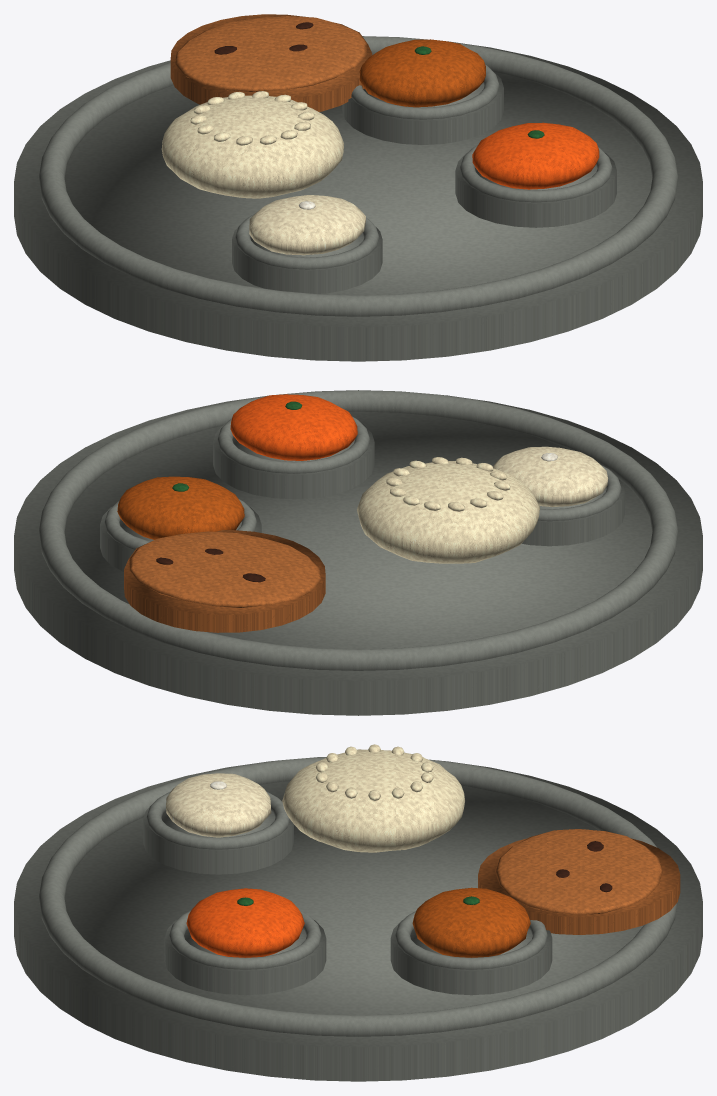
File: thali.glb
3 renders of one model, top to bottom at view 1: azimuth 30°, elevation 25°; view 2: azimuth 150°, elevation 25°; view 3: azimuth 270°, elevation 25°, orthographic.
Parts seen in each view (by area): view 1: steel, rice, bread, curry, pumpkin, cream; view 2: steel, bread, rice, pumpkin, curry, cream; view 3: steel, bread, rice, curry, pumpkin, cream.
Boxes of the visible parts, x1=… form: steel: x1=14, y1=36, x2=702, y2=361; rice: x1=161, y1=91, x2=343, y2=198; bread: x1=170, y1=14, x2=372, y2=111; curry: x1=359, y1=39, x2=485, y2=107; pumpkin: x1=472, y1=122, x2=599, y2=189; cream: x1=249, y1=195, x2=365, y2=255; steel: x1=14, y1=390, x2=702, y2=715; bread: x1=124, y1=530, x2=325, y2=632; rice: x1=357, y1=457, x2=539, y2=563; pumpkin: x1=230, y1=394, x2=357, y2=460; curry: x1=117, y1=476, x2=244, y2=539; cream: x1=493, y1=446, x2=607, y2=507; steel: x1=14, y1=757, x2=702, y2=1081; bread: x1=478, y1=829, x2=680, y2=934; rice: x1=282, y1=744, x2=464, y2=852; curry: x1=412, y1=887, x2=530, y2=957; pumpkin: x1=186, y1=888, x2=304, y2=957; cream: x1=166, y1=773, x2=271, y2=837.
Bounding box in the file's own units: 0.64 × 0.1248 × 0.64.
Materials: 9 (9 with a texture image).
